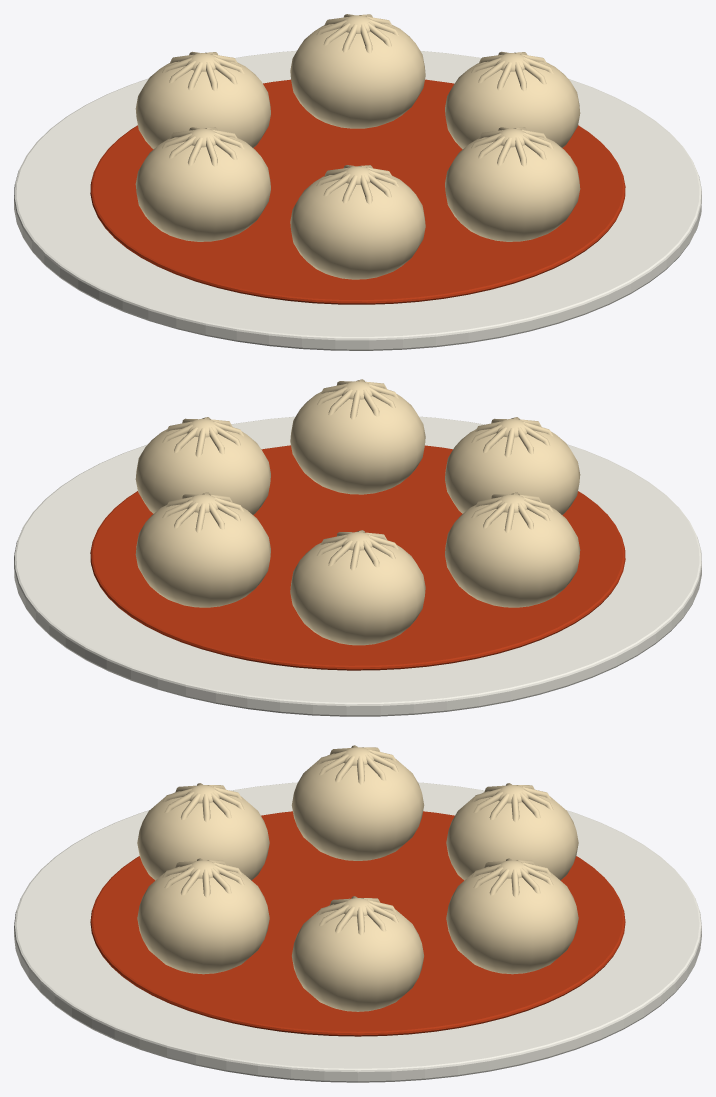
The model's file is spicy-wontons.glb.
3 views of the same model, one above another, from view 1: azimuth 30°, elevation 25°; view 2: azimuth 150°, elevation 25°; view 3: azimuth 270°, elevation 25° (orthographic).
Parts seen in each view (by area): view 1: 27cm demo plate, Chili sauce, Dumpling.005, Dumpling, Dumpling.004, Dumpling.002, Dumpling.003, Dumpling.001; view 2: 27cm demo plate, Chili sauce, Dumpling.003, Dumpling.002, Dumpling, Dumpling.004, Dumpling.001, Dumpling.005; view 3: 27cm demo plate, Chili sauce, Dumpling.004, Dumpling.002, Dumpling, Dumpling.001, Dumpling.003, Dumpling.005.
Boxes of the visible parts, x1,y1,x2,y2 form: 27cm demo plate: (14,50,701,350); Chili sauce: (90,79,625,304); Dumpling.005: (290,174,425,279); Dumpling: (445,137,580,241); Dumpling.004: (135,137,270,241); Dumpling.002: (290,23,425,128); Dumpling.003: (135,61,270,149); Dumpling.001: (445,61,580,149); 27cm demo plate: (14,416,701,716); Chili sauce: (90,445,625,670); Dumpling.003: (290,539,425,645); Dumpling.002: (135,501,270,607); Dumpling: (290,387,425,494); Dumpling.004: (445,501,580,607); Dumpling.001: (135,425,270,514); Dumpling.005: (445,425,580,514); 27cm demo plate: (14,782,701,1082); Chili sauce: (90,811,625,1036); Dumpling.004: (291,753,424,860); Dumpling.002: (446,866,578,974); Dumpling: (137,866,269,974); Dumpling.001: (292,904,423,1011); Dumpling.003: (446,791,578,880); Dumpling.005: (137,791,269,880).
Bounding box in the file's own units: 0.27 × 0.049 × 0.27.
